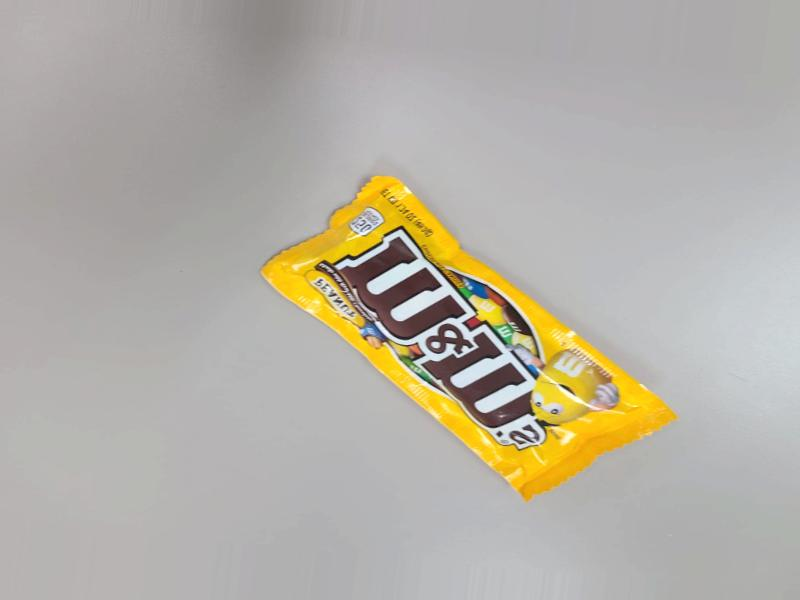m&m: (268, 153, 682, 528)
